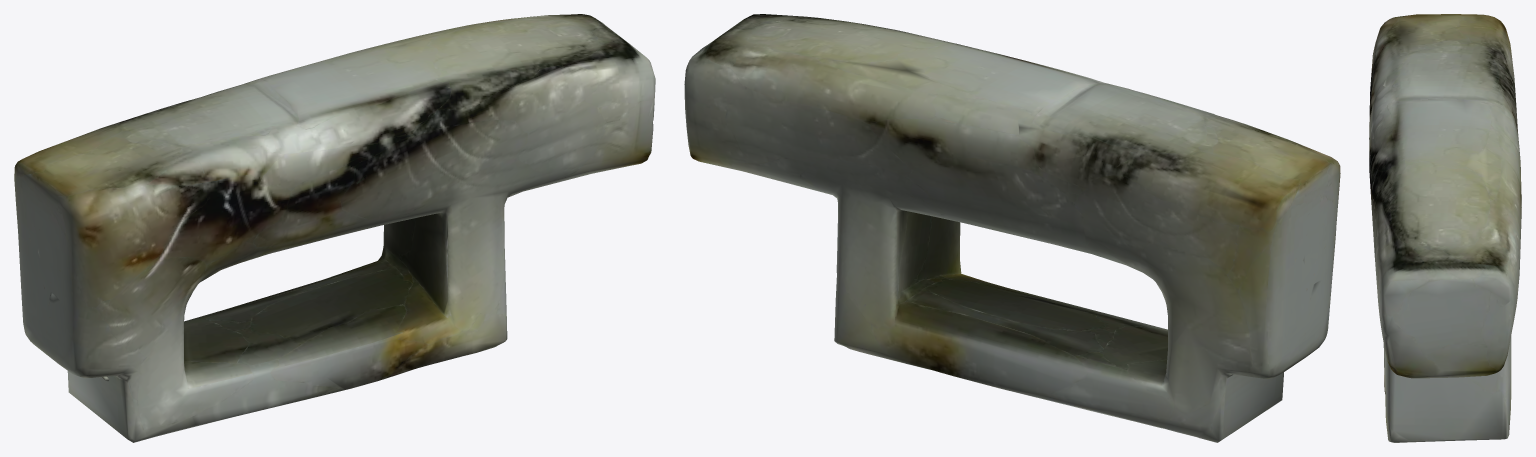
Rendered from dragon-phoenix-zhi-overview.glb.
3 views of the same model, side by side, from view 1: azimuth 30°, elevation 25°; view 2: azimuth 150°, elevation 25°; view 3: azimuth 270°, elevation 25° (orthographic). The views are drawn at different scales.
Visible parts, largest first — view 1: node_0; view 2: node_0; view 3: node_0.
Boxes of the visible parts, <box> form: node_0: <box>14,14,655,442</box>; node_0: <box>684,14,1340,442</box>; node_0: <box>1369,14,1521,442</box>.
Bounding box in the file's own units: 1.11 × 0.523 × 0.2699.
Materials: 1 (1 with a texture image).
